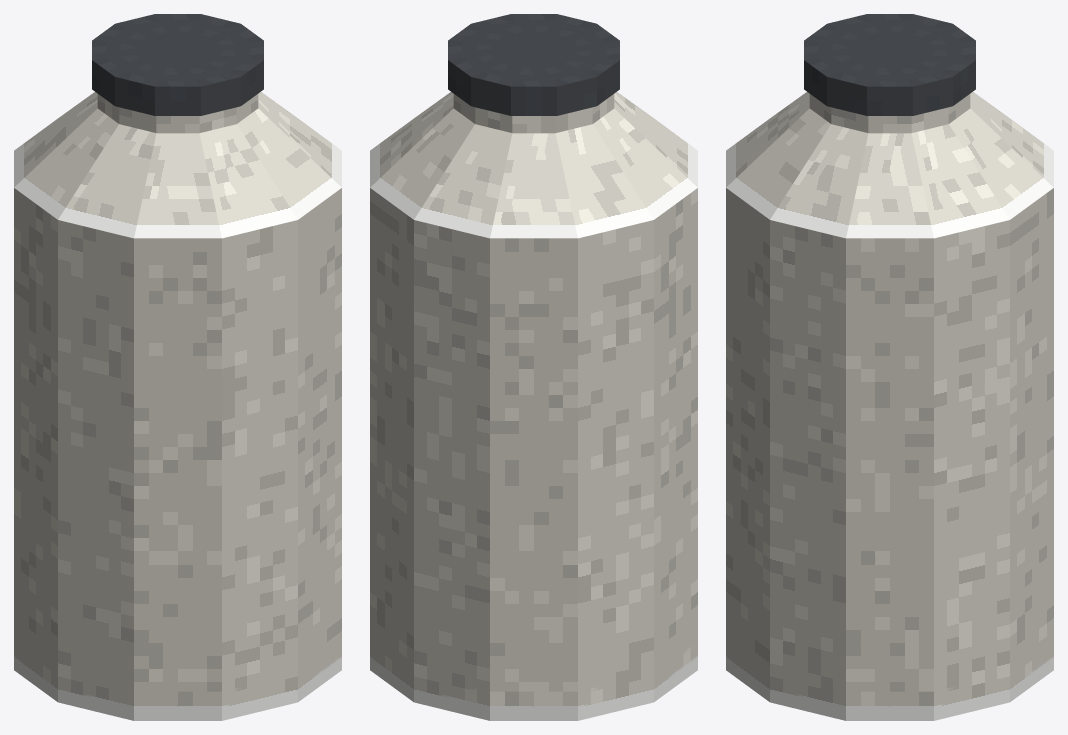
Rendered from bottle_plastic_tiny.glb.
3 views of the same model, side by side, from view 1: azimuth 30°, elevation 25°; view 2: azimuth 150°, elevation 25°; view 3: azimuth 270°, elevation 25° (orthographic).
Visible parts, largest first — view 1: block_walls, block_shoulder, block_rim or cap, block_foot, block_neck; view 2: block_walls, block_shoulder, block_rim or cap, block_foot, block_neck; view 3: block_walls, block_shoulder, block_rim or cap, block_foot, block_neck.
Boxes of the visible parts, left/top/right/bottom form: block_walls: left=14, top=188, right=341, bottom=720; block_shoulder: left=14, top=92, right=341, bottom=238; block_rim or cap: left=92, top=14, right=263, bottom=115; block_foot: left=14, top=641, right=341, bottom=720; block_neck: left=97, top=94, right=258, bottom=133; block_walls: left=370, top=188, right=697, bottom=720; block_shoulder: left=370, top=92, right=697, bottom=238; block_rim or cap: left=448, top=14, right=619, bottom=115; block_foot: left=370, top=641, right=697, bottom=720; block_neck: left=453, top=94, right=614, bottom=133; block_walls: left=726, top=188, right=1053, bottom=720; block_shoulder: left=726, top=92, right=1053, bottom=238; block_rim or cap: left=804, top=14, right=975, bottom=115; block_foot: left=726, top=641, right=1053, bottom=720; block_neck: left=809, top=94, right=970, bottom=133.
Size of the model in its own units: 0.0198 by 0.04 by 0.0198.
2 materials, 2 textured.
